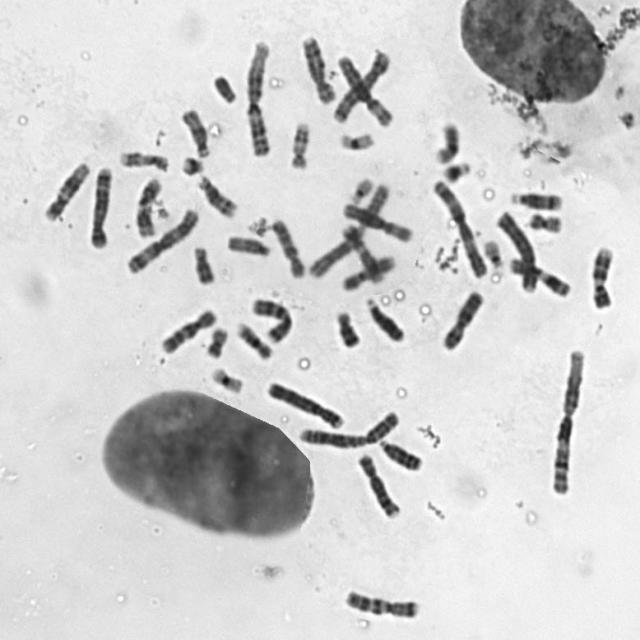A1: (546, 342, 589, 496), (240, 34, 274, 158)
A2: (304, 173, 392, 280), (293, 403, 402, 450)
A3: (426, 172, 490, 279), (121, 201, 201, 275)
B4: (262, 374, 348, 430), (491, 203, 542, 295)
B5: (330, 46, 395, 126), (83, 160, 114, 250)
C10: (154, 302, 218, 356), (266, 212, 308, 279)
C11: (503, 250, 575, 299), (130, 172, 164, 238)
C12: (38, 154, 92, 222), (338, 218, 388, 285)
C6: (330, 46, 396, 126), (337, 194, 415, 244)
C7: (339, 582, 422, 620), (245, 290, 295, 345)
C8: (352, 446, 403, 520), (295, 29, 338, 105)
C9: (336, 248, 398, 292), (585, 238, 617, 310)
D13: (361, 290, 408, 344), (374, 432, 424, 472)
D14: (192, 168, 239, 220), (504, 184, 565, 212)
D15: (175, 102, 212, 158), (221, 228, 273, 259)
E16: (230, 316, 275, 362), (429, 114, 463, 165)
E17: (113, 144, 172, 173), (284, 114, 312, 171)
E18: (329, 304, 363, 349), (188, 239, 217, 286)
F19: (206, 360, 246, 394), (333, 124, 378, 152)
F20: (522, 206, 566, 234), (201, 320, 230, 360)
G21: (438, 154, 473, 184), (175, 149, 207, 177)
G22: (345, 171, 375, 205), (479, 232, 505, 269)
X: (436, 284, 487, 352)
Y: (208, 68, 240, 105)
